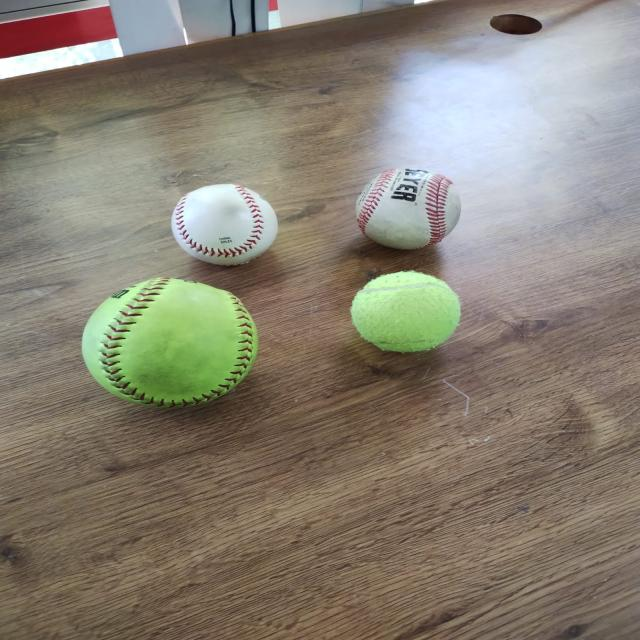beisbol ball: (171, 183, 279, 265), (355, 167, 462, 249)
softball ball: (80, 278, 259, 408)
tenis ball: (348, 270, 464, 352)
